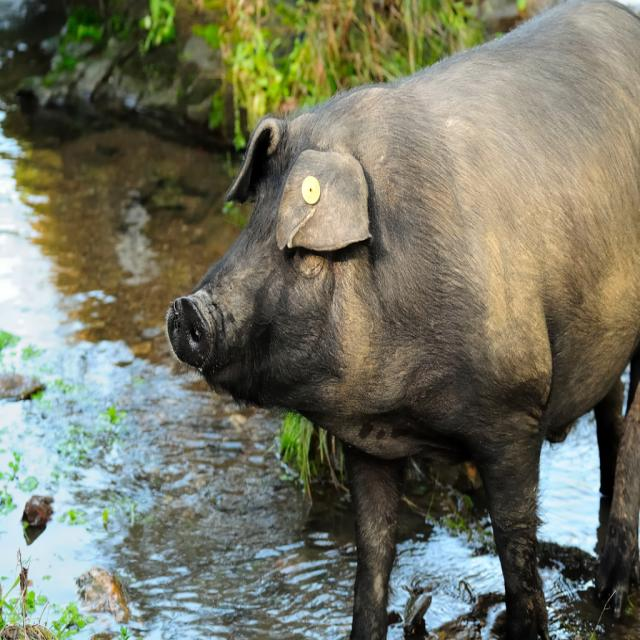Pig: (167, 0, 639, 639)
